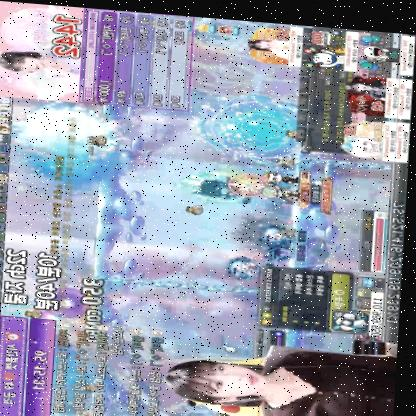donation: (0, 1, 85, 100), (344, 67, 414, 112), (341, 111, 412, 155), (357, 24, 416, 68), (245, 17, 302, 61), (303, 21, 360, 65)
streamer: (167, 333, 401, 416)
